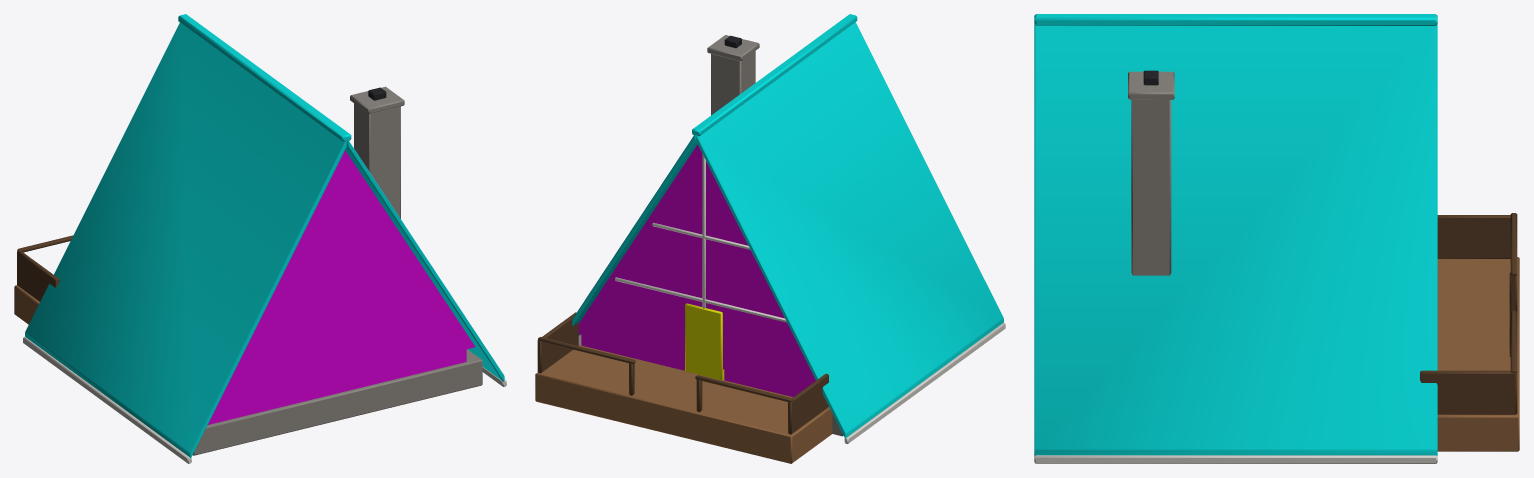
Rendered from House_AFrame.fbx.
The picture shows the model from 3 angles, left to right: view 1: azimuth 30°, elevation 25°; view 2: azimuth 150°, elevation 25°; view 3: azimuth 270°, elevation 25°; orthographic projection. The views are drawn at different scales.
Visible parts, largest first — view 1: House_AFrame; view 2: House_AFrame; view 3: House_AFrame.
Part boxes in pixels (<box>): House_AFrame: <box>14,14,506,463</box>; House_AFrame: <box>535,14,1005,463</box>; House_AFrame: <box>1034,14,1519,463</box>.
Bounding box in the file's own units: 9.02 × 7.9 × 9.75.
